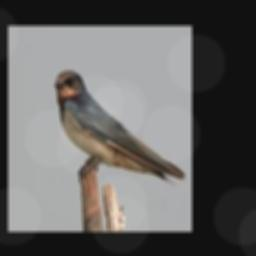Swallow: (55, 72, 186, 183)
